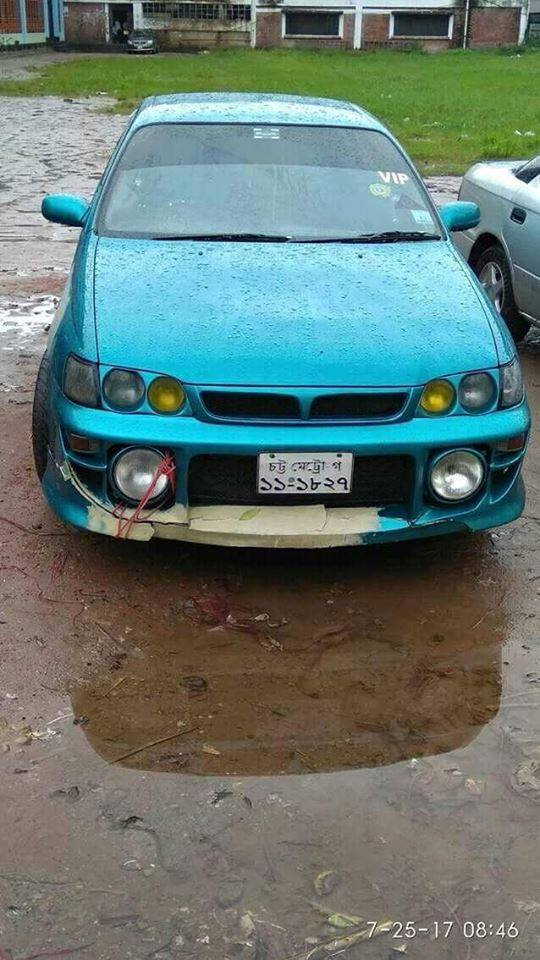registration_plate: (256, 451, 354, 494)
